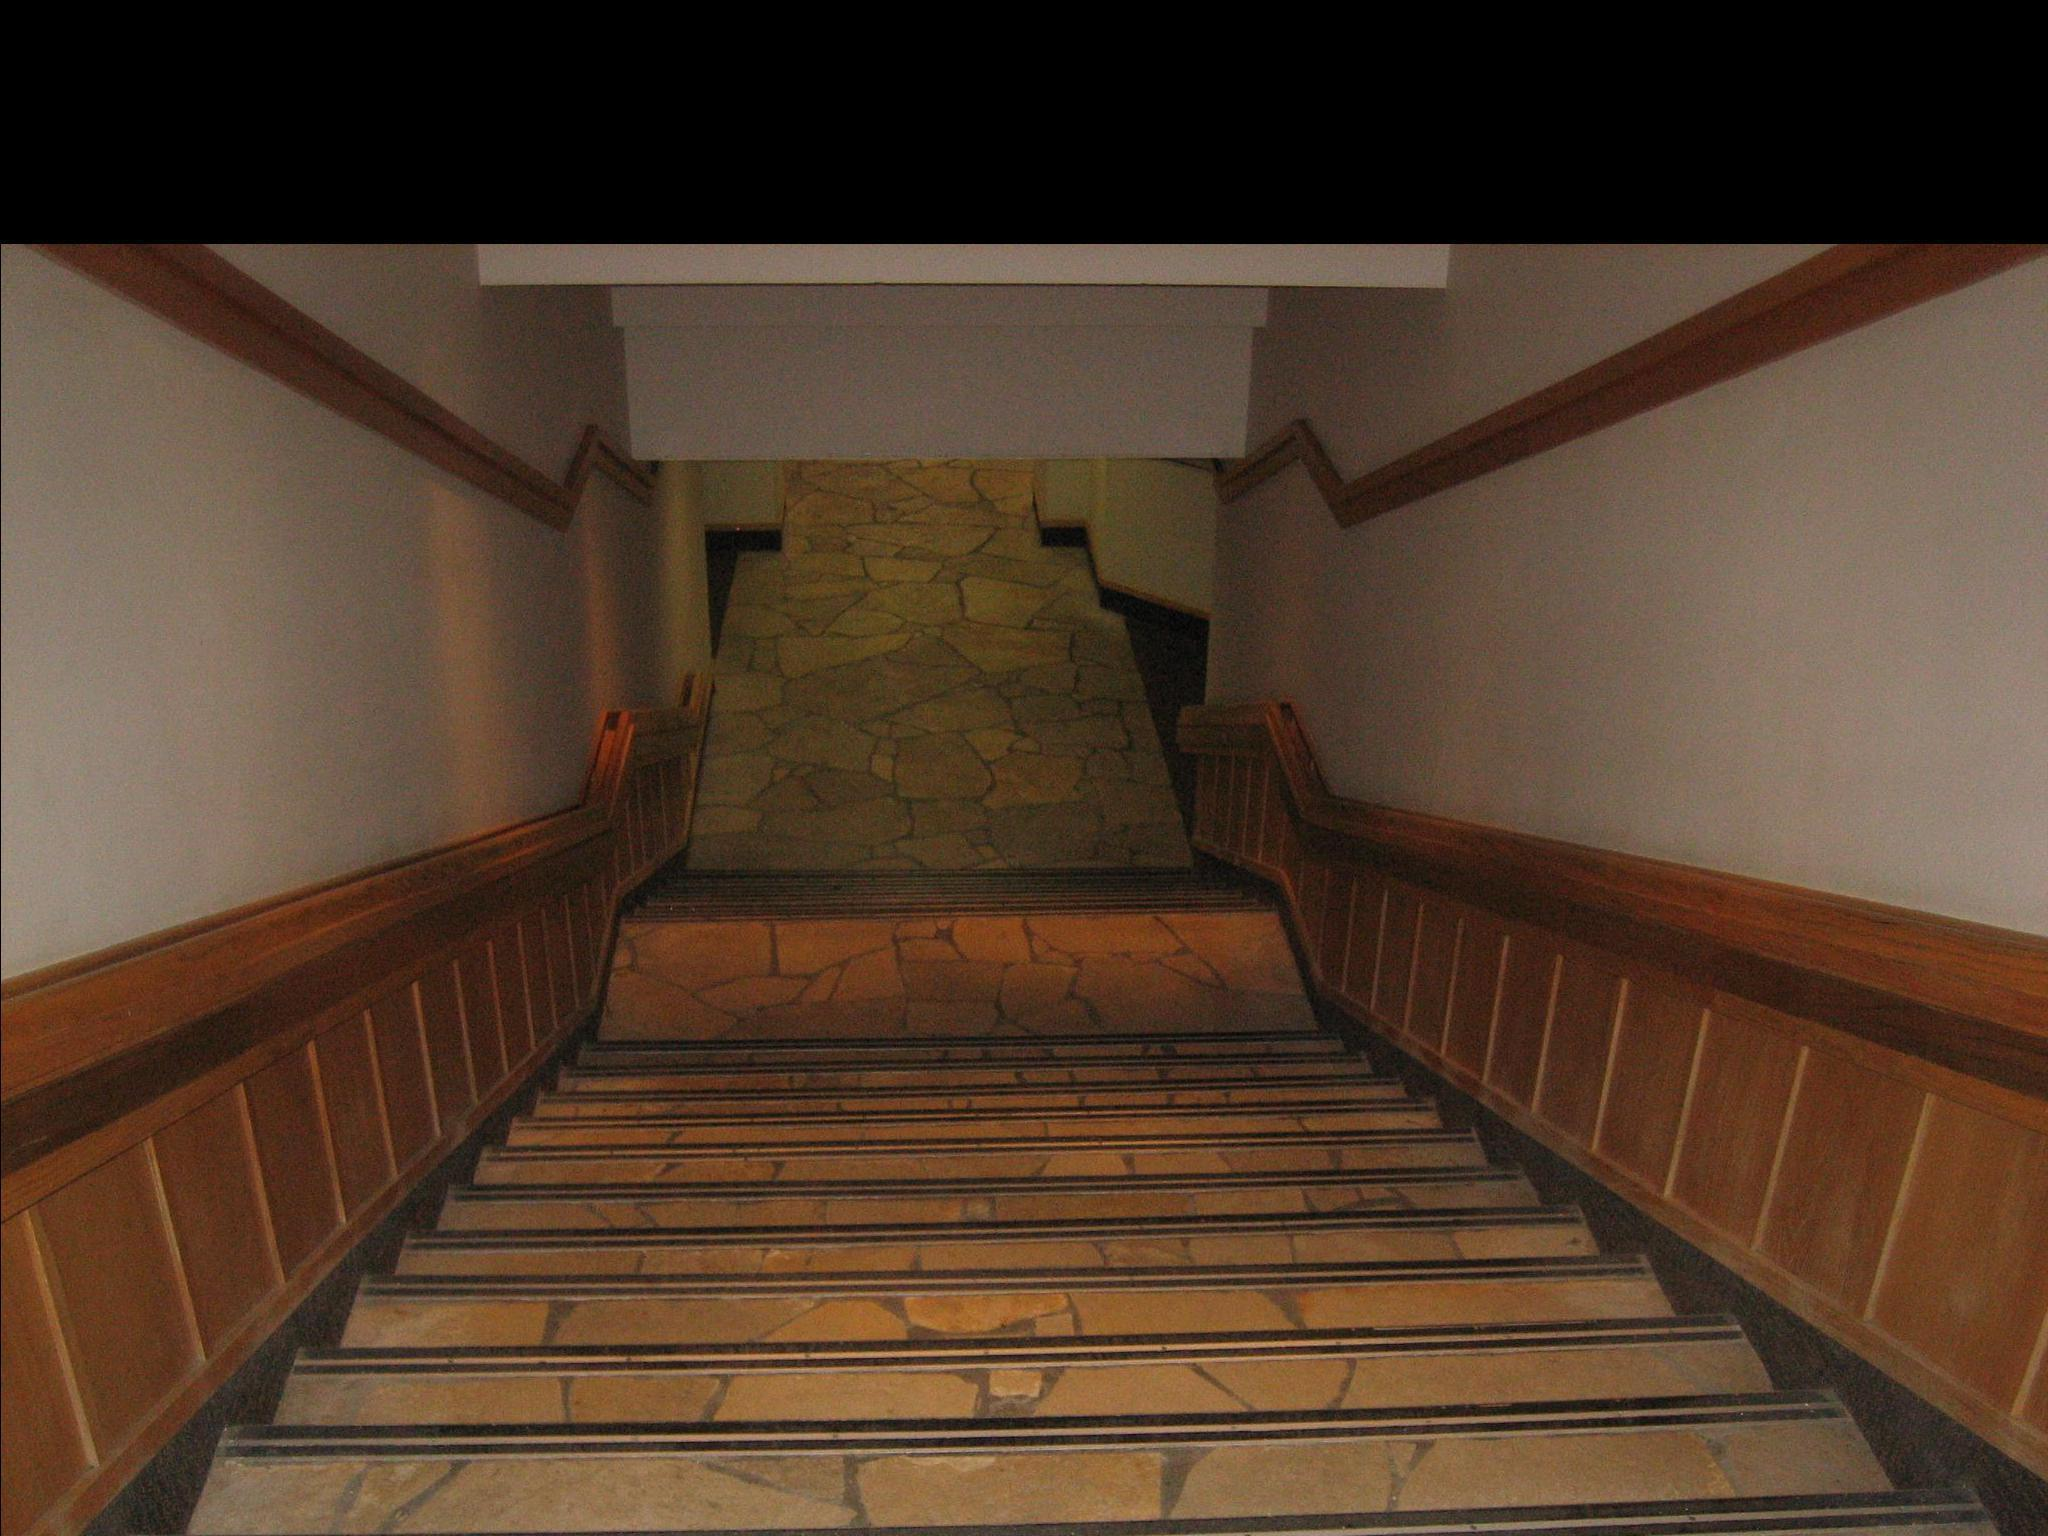Escaleras: (15, 662, 2038, 1536)
